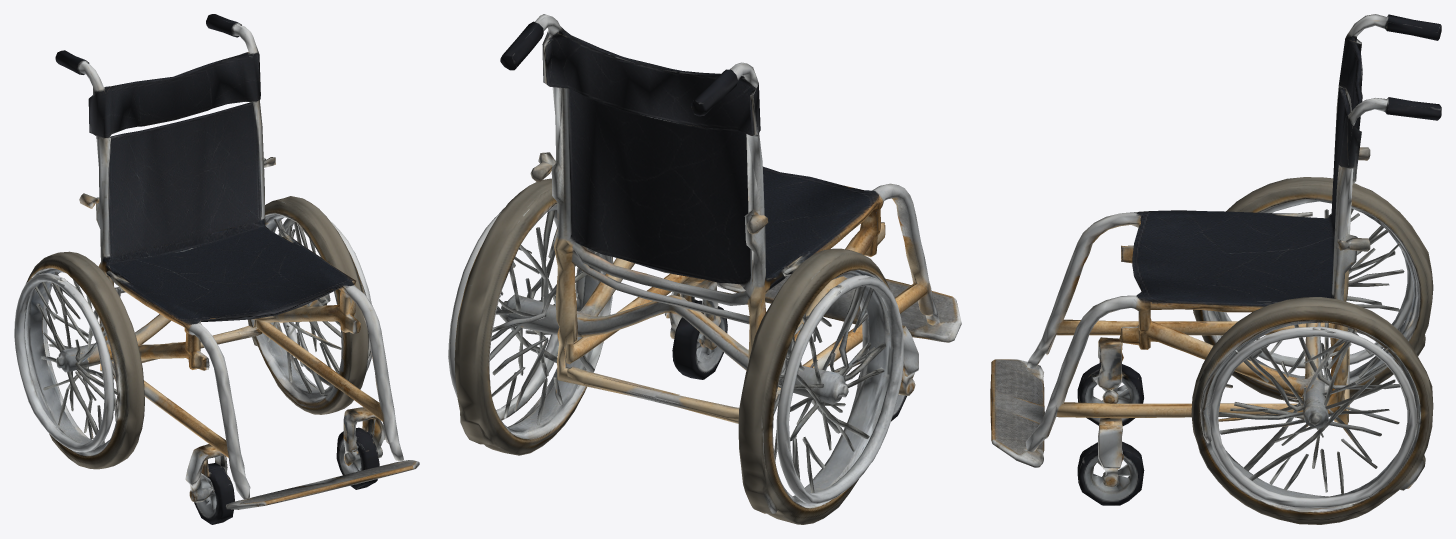
Rendered from Wheelchair.fbx.
3 views of the same model, side by side, from view 1: azimuth 30°, elevation 25°; view 2: azimuth 150°, elevation 25°; view 3: azimuth 270°, elevation 25° (orthographic). The views are drawn at different scales.
Parts seen in each view (by area): view 1: mesh_node; view 2: mesh_node; view 3: mesh_node.
Part boxes in pixels (x1,y1,x2,y2): mesh_node: (14,14,419,524); mesh_node: (448,14,961,524); mesh_node: (990,14,1441,524).
Size of the model in its own units: 146 by 190 by 191.
Materials: 1 (1 with a texture image).
